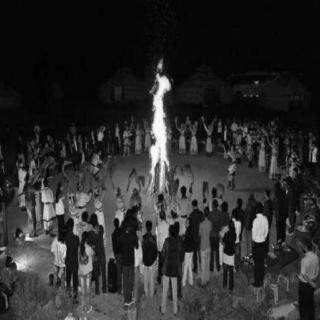Fire: (144, 57, 174, 197)
other: (60, 148, 114, 198), (173, 182, 193, 234), (14, 160, 32, 194)
